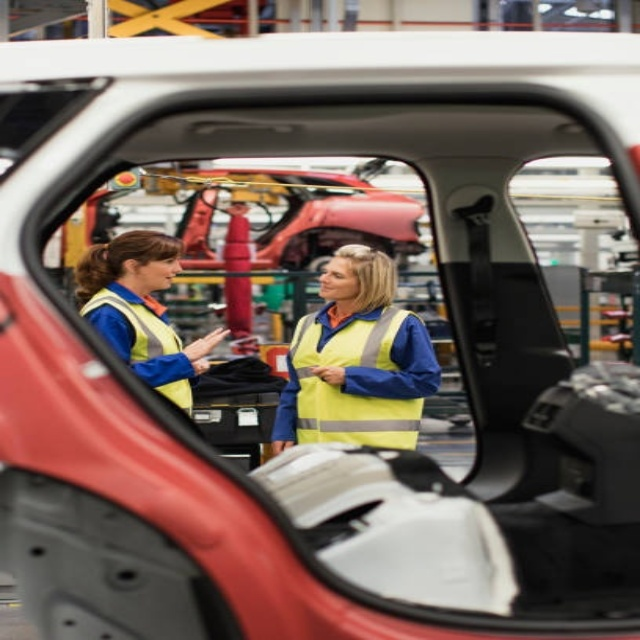Sin_gafas: (320, 265, 355, 282), (141, 253, 180, 267)
Sin_guantes: (184, 325, 231, 360), (314, 365, 345, 387)
Sin_mascara: (149, 271, 180, 287), (317, 280, 340, 296)
